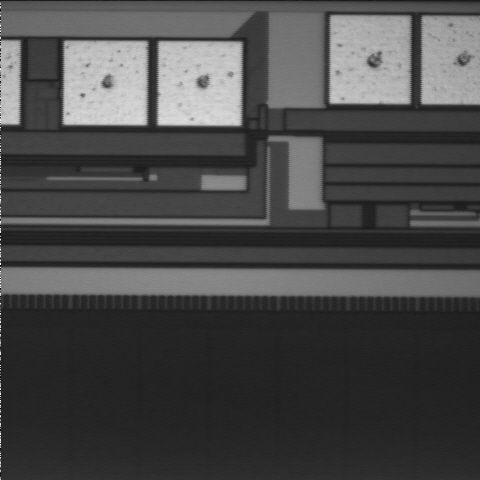pad: (64, 42, 147, 125), (158, 42, 241, 125), (330, 17, 409, 103)
